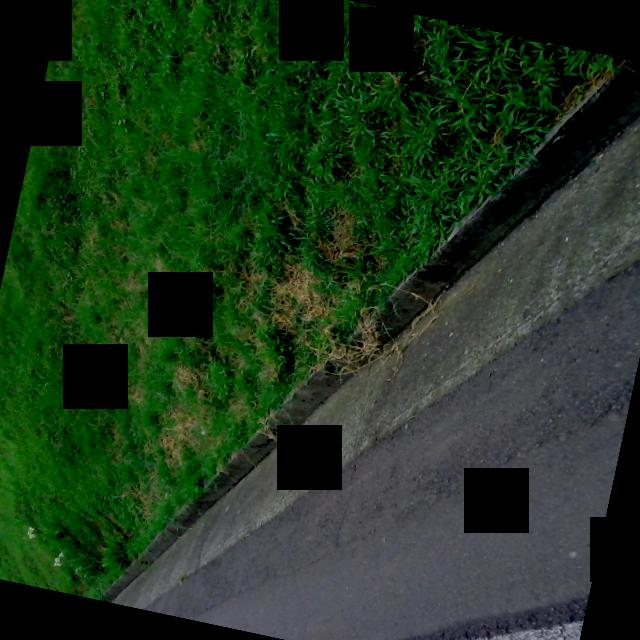DITCH: (102, 0, 640, 640), (106, 0, 640, 640)
